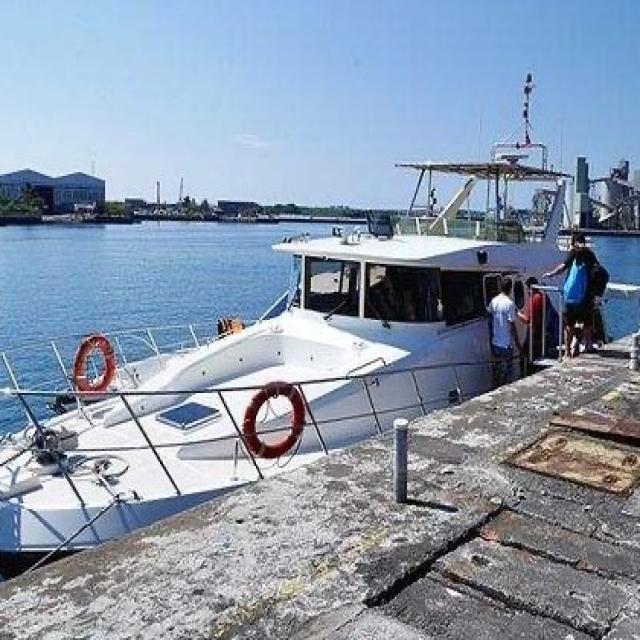houseboat: (0, 142, 613, 560)
